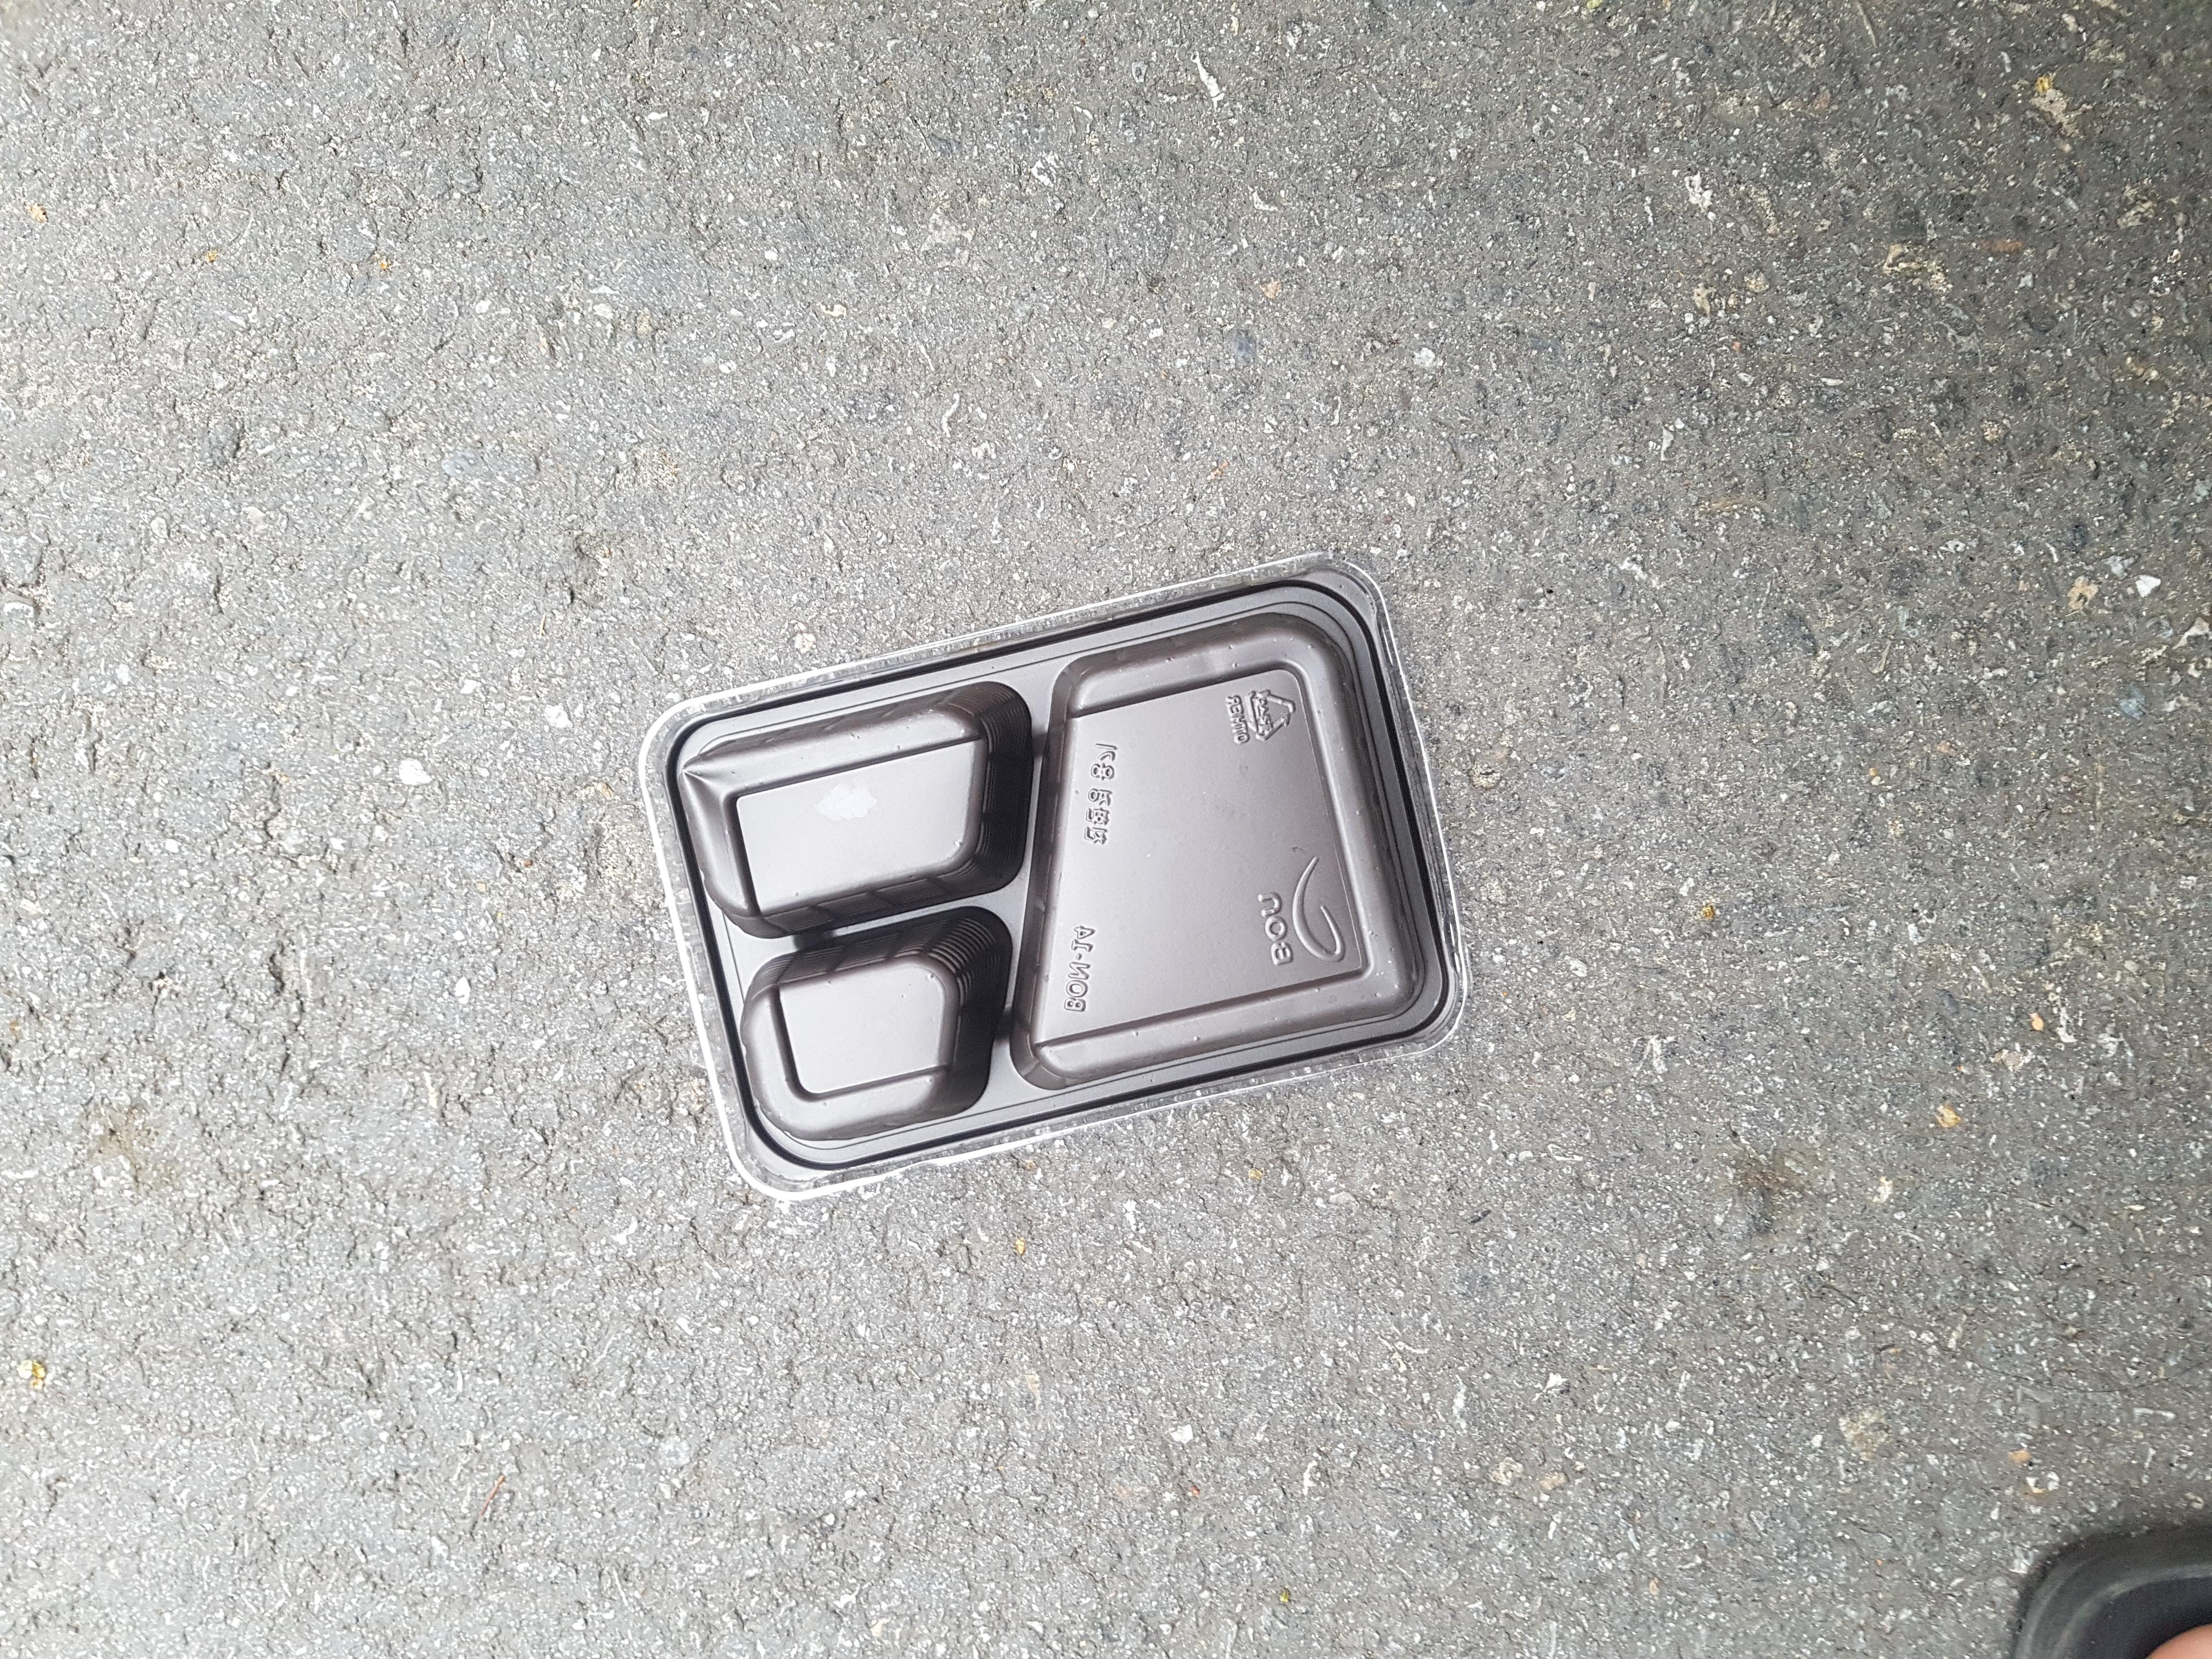bottle: (535, 333, 1533, 997)
